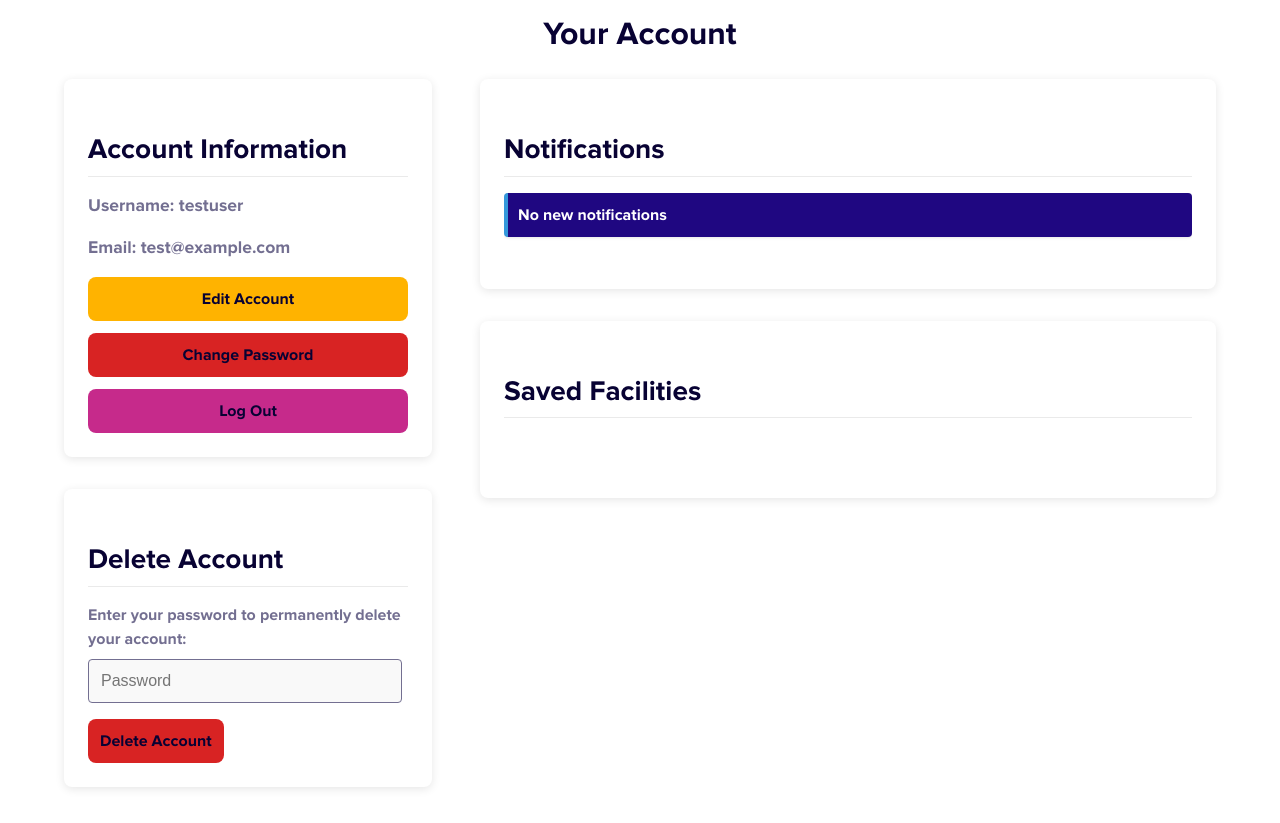
it: Account Component › shows error on empty password fields
This screenshot has width=1280, height=823.
Click the button "Change Password": x=248, y=355 [88,333,408,377]
(page scrolled)
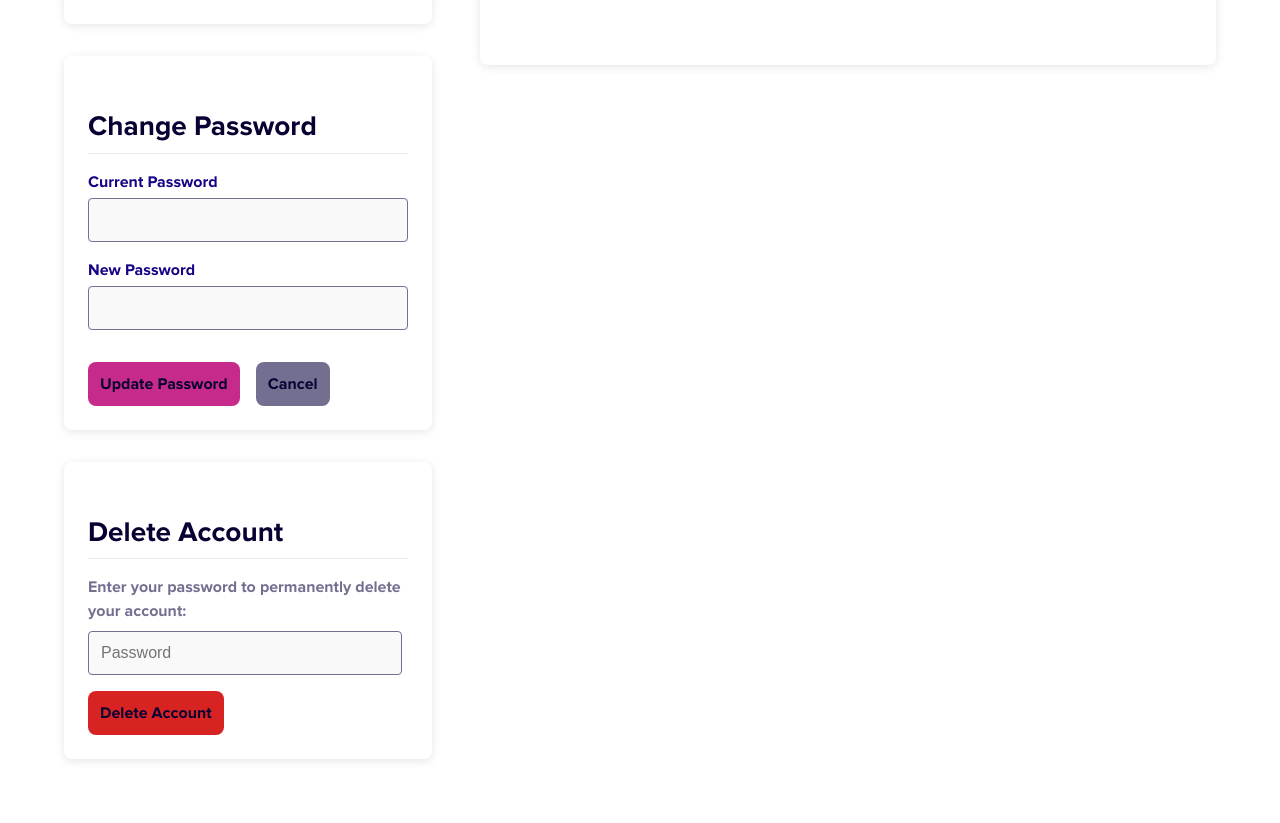
Click the button "Update Password": x=164, y=384 [88,362,240,406]
(page scrolled)
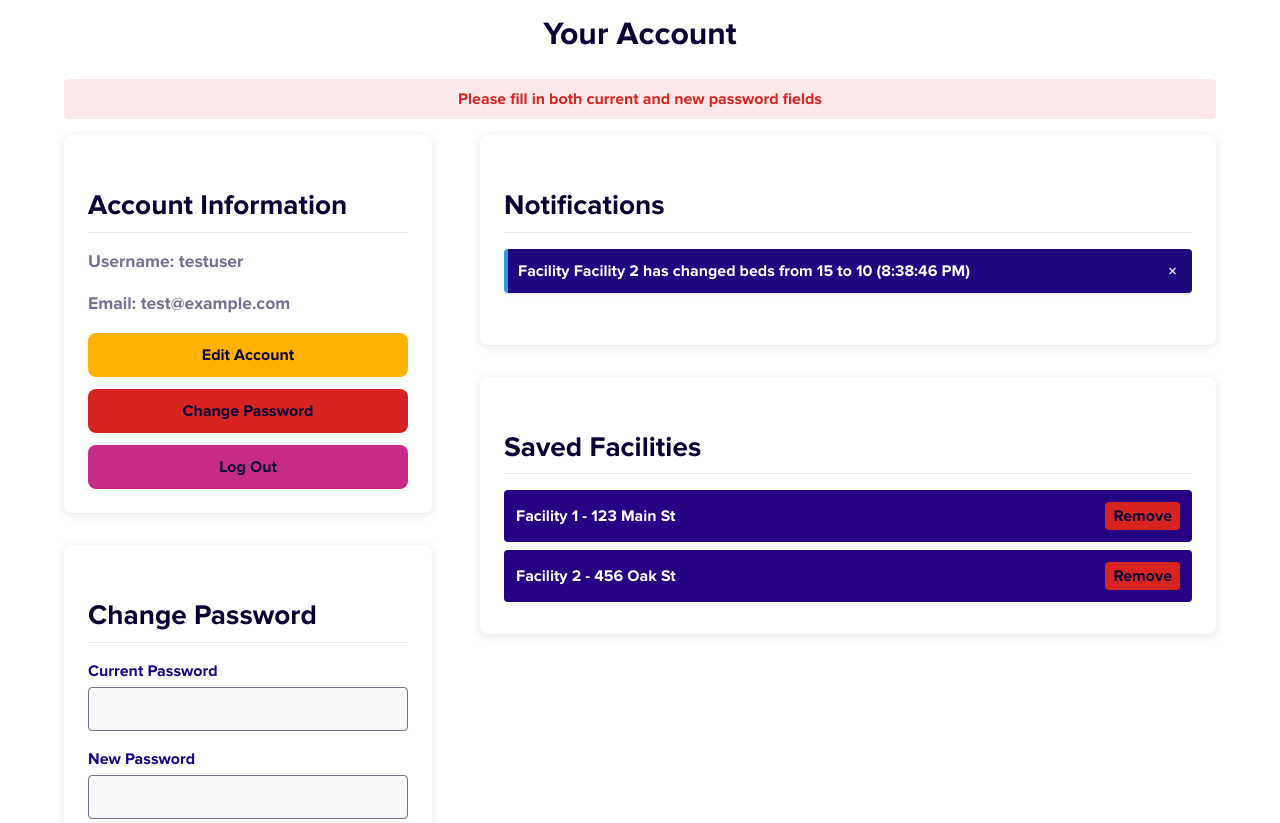
Expected: the text "Please fill in both current and new password fields" is shown, [64,79,1216,119]
